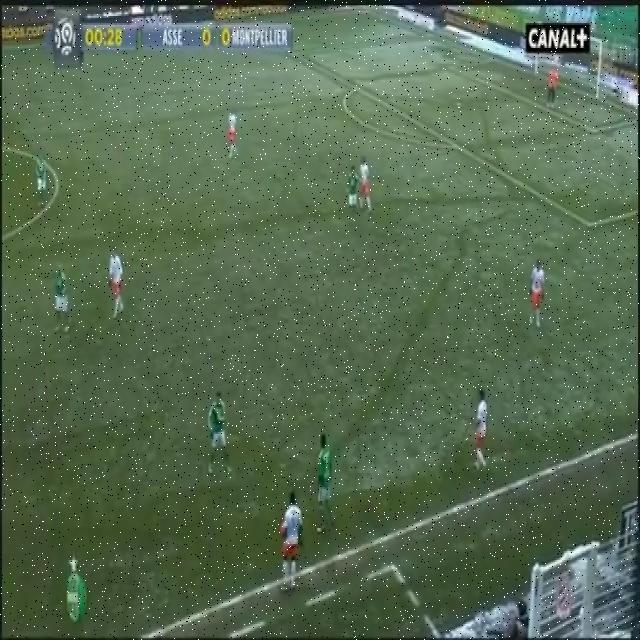goalkeeper: (548, 57, 567, 116)
player: (316, 392, 352, 549), (51, 552, 103, 640), (467, 374, 503, 498), (275, 484, 316, 590), (523, 242, 560, 354), (206, 385, 247, 483), (215, 75, 252, 173), (98, 227, 130, 336), (48, 250, 76, 356), (30, 143, 55, 246), (338, 156, 362, 231), (362, 148, 379, 229)
